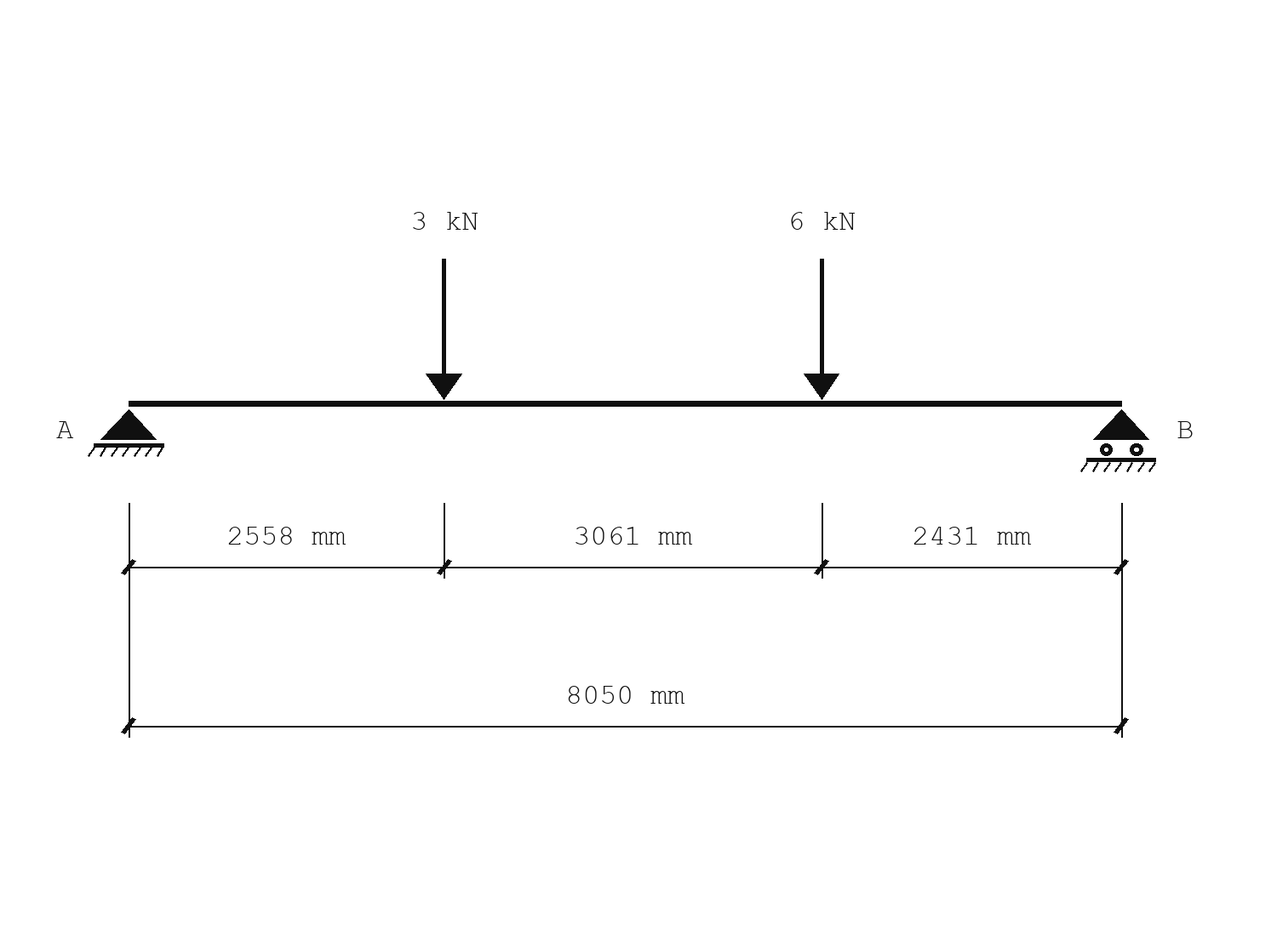pin_support: (88, 409, 164, 457)
point_load: (426, 259, 462, 400), (804, 259, 839, 400)
roller_support: (1080, 409, 1156, 472)
